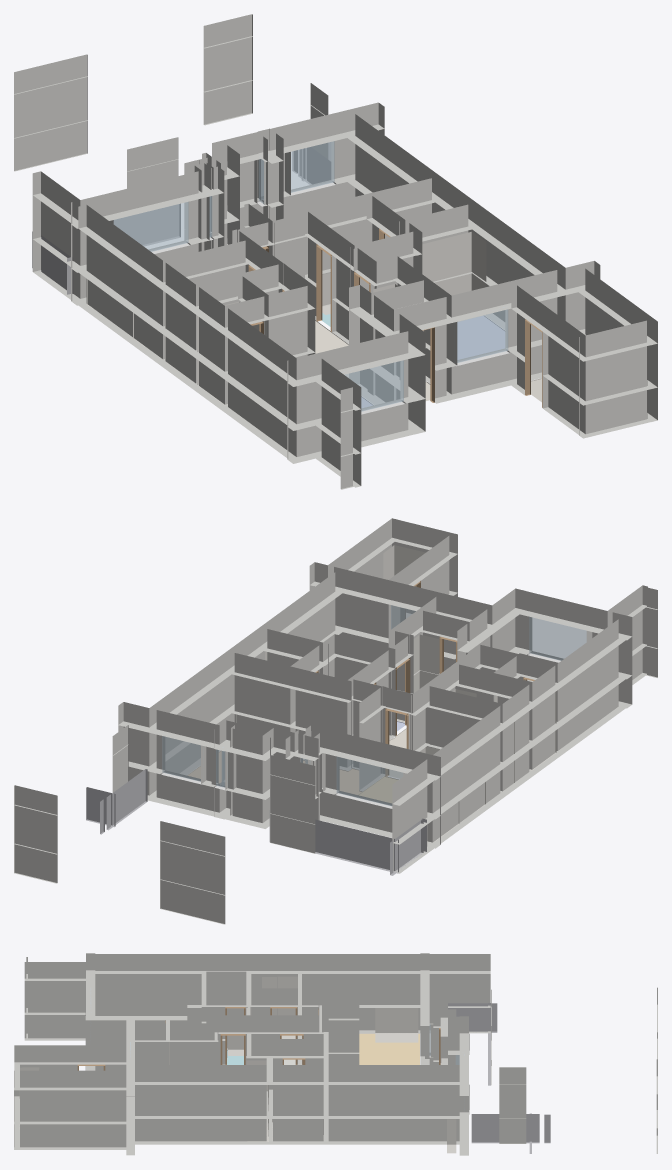
The picture shows the model from 3 angles, top to bottom: view 1: azimuth 30°, elevation 25°; view 2: azimuth 150°, elevation 25°; view 3: azimuth 270°, elevation 25°; orthographic projection. The views are drawn at different scales.
Visible parts, largest first — view 1: walls, railings, furniture_3_closet, window_2, window_3, window_1, window_14, floor_7_Bed_Room, door_8; view 2: walls, railings, window_2, window_1, window_14, furniture_5_closet, furniture_6_closet, floor_0_Living_Room; view 3: walls, railings, floor_1_Kitchen, furniture_8_appliance, furniture_0_closet, furniture_7_appliance, furniture_17_sink.
Boxes of the visible parts, x1=… form: walls: x1=14, y1=14, x2=657, y2=489; railings: x1=32, y1=142, x2=330, y2=294; furniture_3_closet: x1=422, y1=231, x2=486, y2=321; window_2: x1=110, y1=202, x2=188, y2=251; window_3: x1=454, y1=307, x2=508, y2=362; window_1: x1=341, y1=360, x2=403, y2=411; window_14: x1=291, y1=141, x2=334, y2=192; floor_7_Bed_Room: x1=457, y1=316, x2=504, y2=359; door_8: x1=316, y1=244, x2=331, y2=331; walls: x1=14, y1=518, x2=657, y2=924; railings: x1=86, y1=769, x2=426, y2=875; window_2: x1=336, y1=756, x2=405, y2=806; window_1: x1=529, y1=617, x2=586, y2=660; window_14: x1=162, y1=736, x2=203, y2=781; furniture_5_closet: x1=397, y1=634, x2=439, y2=721; furniture_6_closet: x1=383, y1=545, x2=425, y2=618; floor_0_Living_Room: x1=187, y1=751, x2=361, y2=794; walls: x1=14, y1=953, x2=657, y2=1155; railings: x1=448, y1=1003, x2=550, y2=1153; floor_1_Kitchen: x1=359, y1=1033, x2=419, y2=1064; furniture_8_appliance: x1=375, y1=1008, x2=418, y2=1042; furniture_0_closet: x1=277, y1=976, x2=297, y2=1038; furniture_7_appliance: x1=447, y1=1119, x2=456, y2=1153; furniture_17_sink: x1=228, y1=1035, x2=243, y2=1055.
Bounding box in the file's own units: 9.52 × 2.72 × 20.62.
